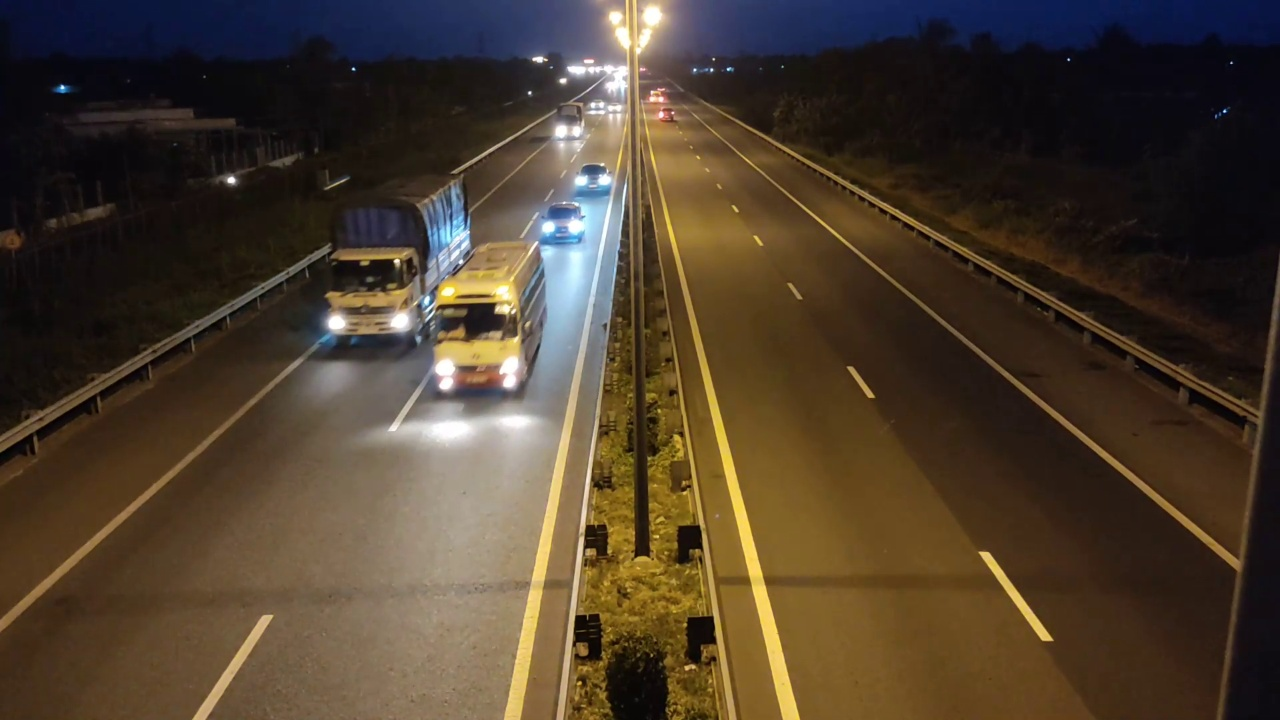bus: (430, 239, 550, 400)
car: (539, 201, 587, 243), (575, 162, 612, 195)
truck: (321, 172, 473, 351)
